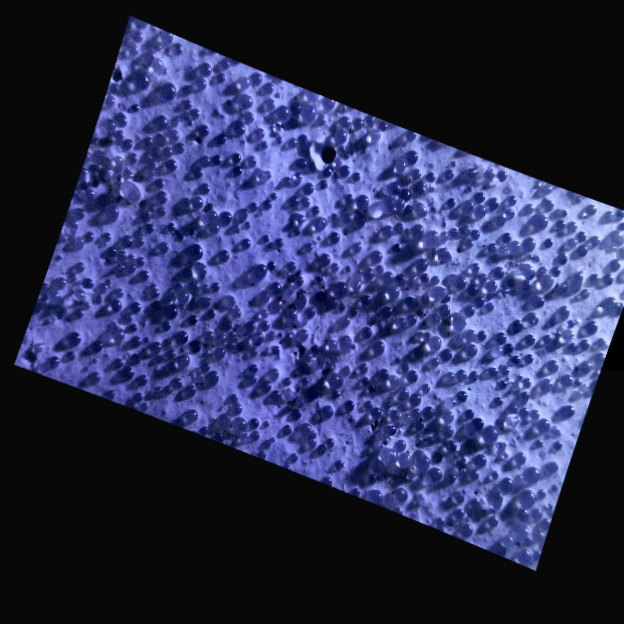GlassBeadSeg: (128, 43, 605, 465), (89, 102, 569, 467), (113, 41, 549, 429), (160, 80, 515, 492), (222, 61, 529, 519), (134, 72, 476, 478), (119, 138, 563, 449), (200, 154, 613, 482), (131, 159, 499, 525), (276, 134, 603, 537), (191, 164, 537, 505), (146, 58, 404, 514), (136, 82, 498, 387), (102, 81, 539, 326), (139, 169, 550, 429), (153, 176, 502, 479), (216, 72, 579, 351), (127, 221, 623, 425), (53, 166, 477, 396), (238, 92, 485, 465), (198, 177, 573, 418), (194, 76, 436, 448), (106, 218, 606, 398), (114, 110, 430, 392), (56, 269, 558, 437), (82, 277, 469, 494), (121, 137, 350, 494), (67, 243, 455, 452), (230, 209, 623, 413), (141, 127, 382, 458), (92, 165, 333, 485), (269, 167, 528, 464), (146, 133, 413, 419), (189, 107, 488, 340), (175, 61, 362, 418), (155, 117, 345, 467), (143, 229, 495, 417), (73, 150, 456, 320), (196, 126, 457, 375), (133, 206, 514, 369), (230, 305, 610, 468), (209, 226, 591, 384), (149, 128, 419, 351), (162, 320, 515, 488), (243, 113, 622, 269), (143, 50, 339, 348), (161, 28, 338, 345), (132, 28, 273, 421), (192, 116, 481, 307), (247, 221, 528, 416), (140, 210, 454, 384), (197, 71, 356, 411), (163, 150, 449, 338), (258, 259, 543, 446), (253, 129, 601, 282), (202, 175, 476, 368), (122, 276, 613, 379), (357, 202, 599, 405), (245, 325, 474, 536), (111, 88, 388, 259), (210, 129, 348, 461), (92, 226, 460, 350), (191, 164, 598, 276), (284, 192, 458, 449), (113, 127, 565, 225), (260, 232, 485, 428), (130, 188, 482, 311), (167, 128, 339, 378), (267, 278, 480, 478), (396, 221, 566, 468), (165, 89, 322, 353), (199, 303, 482, 447), (395, 167, 593, 371), (73, 207, 282, 399), (101, 234, 301, 433), (288, 112, 422, 406), (287, 136, 561, 274), (404, 148, 597, 331), (141, 188, 412, 316), (201, 208, 516, 315), (136, 75, 313, 265), (258, 379, 474, 532), (127, 151, 247, 426), (395, 162, 548, 377), (136, 215, 329, 384), (239, 236, 535, 345), (182, 73, 394, 225), (209, 199, 475, 320), (189, 248, 491, 352), (265, 97, 431, 282), (105, 163, 305, 316), (130, 287, 591, 353), (255, 311, 467, 451), (204, 307, 361, 496), (384, 314, 547, 492), (150, 161, 450, 255), (66, 158, 457, 227), (340, 164, 583, 274), (359, 236, 554, 372), (309, 344, 465, 514), (366, 328, 559, 463), (188, 109, 364, 257), (262, 79, 426, 236), (353, 214, 540, 345), (200, 286, 383, 418), (454, 316, 569, 518), (124, 262, 463, 330), (370, 174, 507, 342), (80, 307, 249, 440), (257, 204, 487, 301), (247, 303, 571, 371), (463, 237, 618, 379), (437, 259, 536, 481), (104, 167, 496, 221), (187, 223, 395, 324), (356, 193, 468, 379), (261, 313, 454, 419), (110, 141, 231, 308), (367, 363, 509, 503), (309, 293, 545, 376), (339, 315, 492, 442), (392, 237, 526, 382), (165, 126, 266, 318), (191, 269, 476, 334), (129, 300, 344, 386), (166, 119, 364, 209), (339, 263, 615, 327), (270, 273, 478, 353), (166, 349, 333, 447), (163, 190, 278, 331), (296, 328, 553, 391), (322, 95, 373, 410), (77, 124, 193, 255), (65, 223, 176, 358), (184, 306, 318, 416), (165, 157, 428, 213), (352, 170, 536, 249), (253, 262, 396, 360), (130, 232, 269, 331), (164, 240, 373, 305), (395, 158, 486, 305), (145, 41, 268, 147), (186, 132, 227, 422), (112, 356, 302, 418), (323, 144, 500, 210), (394, 394, 503, 501), (499, 275, 582, 415), (443, 418, 559, 517), (301, 120, 377, 271), (445, 239, 522, 381), (118, 178, 327, 230), (464, 379, 542, 518), (155, 141, 296, 216), (222, 159, 401, 218), (233, 330, 402, 392), (114, 237, 284, 296), (251, 331, 336, 447), (486, 366, 559, 501), (381, 424, 499, 500), (238, 96, 283, 293), (35, 230, 98, 369), (202, 417, 395, 461), (468, 184, 589, 253), (492, 416, 551, 557), (259, 319, 409, 372), (265, 329, 475, 366), (303, 240, 468, 286), (302, 301, 390, 385), (142, 139, 220, 230), (162, 123, 380, 154), (437, 487, 528, 561), (53, 274, 150, 342), (578, 228, 623, 367), (544, 235, 600, 342), (298, 211, 365, 299), (301, 180, 350, 297), (504, 389, 558, 491), (276, 94, 351, 165), (189, 227, 233, 341), (54, 276, 464, 288), (113, 313, 173, 394), (49, 353, 215, 382), (110, 81, 136, 262), (329, 230, 372, 339), (365, 114, 425, 190), (509, 340, 571, 413), (247, 103, 318, 166), (202, 329, 246, 430), (357, 362, 406, 449), (288, 297, 346, 370), (512, 339, 588, 394), (493, 214, 548, 289), (242, 175, 301, 234), (529, 209, 600, 258), (218, 391, 286, 439), (407, 248, 449, 323), (265, 169, 321, 222), (415, 421, 444, 523), (255, 386, 296, 458), (477, 190, 534, 241), (289, 308, 335, 366), (486, 273, 531, 331), (381, 222, 424, 280), (103, 94, 152, 143), (522, 199, 548, 290), (263, 419, 327, 455), (171, 303, 197, 389), (202, 221, 220, 341), (276, 103, 365, 127), (260, 91, 301, 143), (385, 400, 434, 443), (222, 332, 311, 354), (373, 339, 479, 357), (132, 288, 189, 319), (418, 257, 431, 392), (506, 337, 544, 379), (369, 423, 396, 482), (158, 240, 230, 261), (333, 343, 357, 398), (199, 87, 211, 194), (378, 263, 400, 317), (547, 199, 578, 232), (154, 113, 210, 130), (176, 353, 197, 395), (227, 375, 258, 402), (220, 201, 258, 222), (361, 265, 407, 281), (356, 269, 395, 287), (525, 465, 546, 496), (317, 114, 370, 125), (239, 199, 272, 216), (374, 440, 398, 460), (509, 390, 529, 414), (571, 228, 587, 255), (324, 156, 345, 176), (413, 448, 431, 470), (401, 411, 422, 429), (351, 280, 359, 316), (561, 328, 575, 340), (519, 548, 526, 558)
